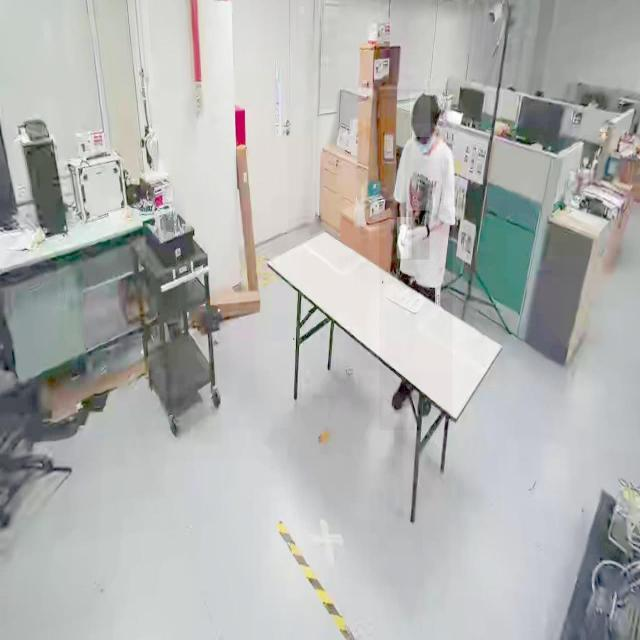face_mask: (412, 124, 436, 159)
hand_glove: (408, 210, 429, 260), (397, 217, 411, 259)
head_nohelmet: (410, 92, 431, 138)
person: (379, 89, 453, 431)
